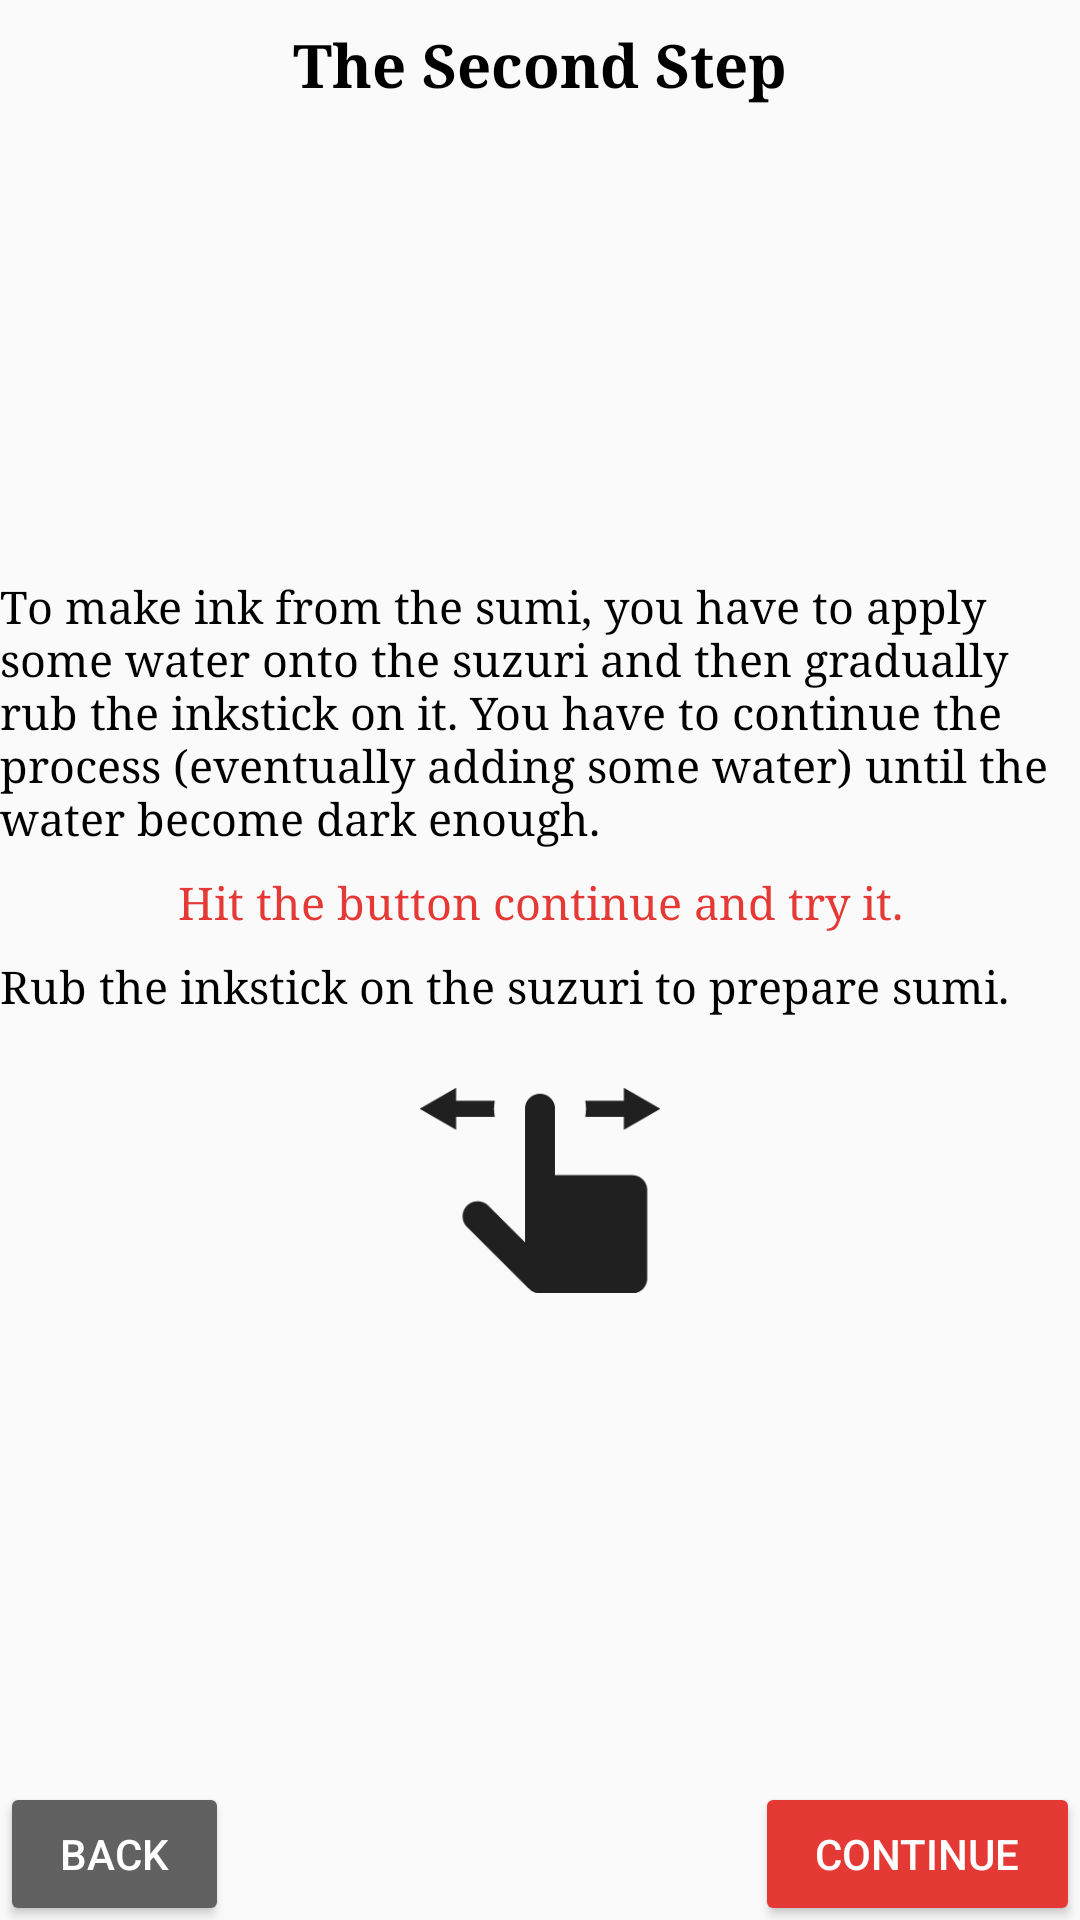

Icon bounding boxes for this 1080px×1920px phone screenshot, format (x1, y1, x2, y2):
swipe: (420, 1088, 660, 1293)
